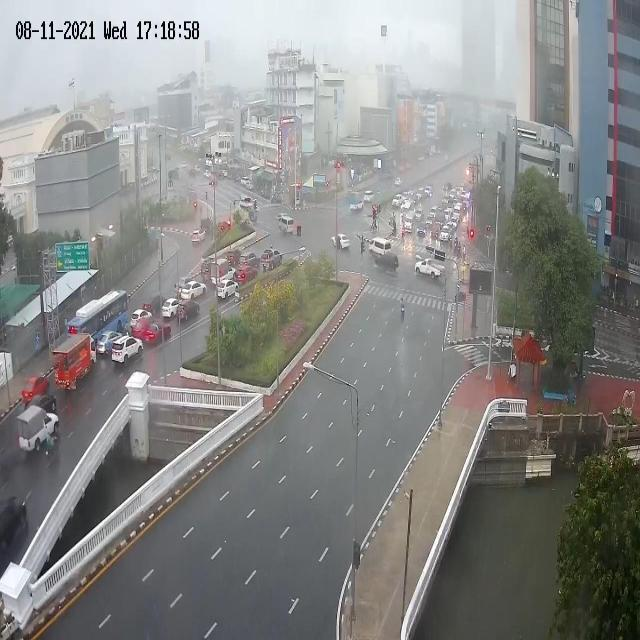Bus: (66, 288, 128, 344)
Car: (111, 336, 143, 364), (21, 376, 49, 405), (144, 319, 171, 346), (96, 330, 122, 354), (178, 280, 206, 302), (28, 394, 56, 413), (143, 293, 167, 315), (217, 279, 240, 301), (376, 251, 398, 273), (178, 298, 200, 320), (235, 264, 257, 284), (130, 309, 152, 329), (162, 298, 181, 321), (174, 277, 194, 295), (239, 252, 261, 266), (331, 233, 349, 250), (190, 229, 206, 244), (440, 226, 450, 242), (392, 193, 403, 206), (364, 189, 374, 202), (202, 168, 212, 180), (415, 209, 424, 221), (450, 216, 459, 227), (394, 177, 403, 187), (240, 175, 249, 184), (222, 169, 228, 176)
Cycle: (457, 242, 461, 257), (401, 302, 405, 315), (454, 240, 457, 252)
Truck: (52, 332, 97, 391), (17, 405, 59, 453), (211, 260, 236, 286), (416, 258, 446, 279), (349, 196, 365, 213)
Van: (368, 237, 391, 259), (277, 216, 294, 234), (404, 210, 416, 233), (454, 202, 464, 220)
